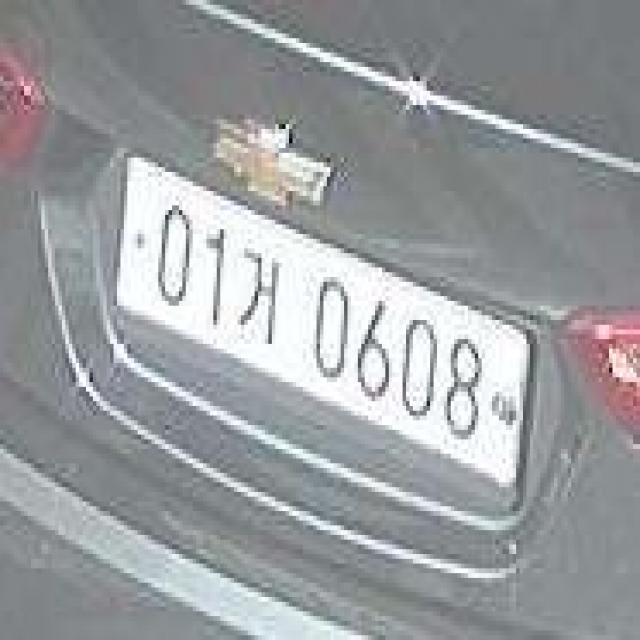illegal_plate: (106, 155, 536, 511)
